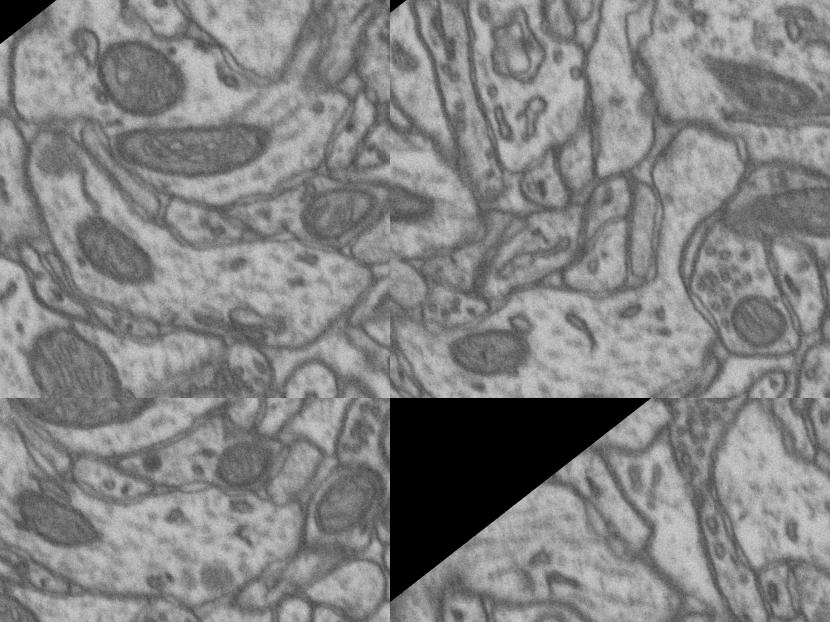mitochondria: (104, 54, 289, 233), (679, 5, 830, 164), (718, 127, 830, 297), (75, 10, 207, 142), (0, 398, 172, 482), (2, 302, 145, 398), (0, 454, 110, 576), (56, 192, 168, 310), (430, 291, 548, 398), (284, 155, 390, 265), (708, 272, 812, 378), (195, 413, 297, 512), (295, 448, 390, 548), (390, 144, 458, 261), (0, 562, 72, 622), (674, 398, 787, 429), (368, 478, 390, 546)
